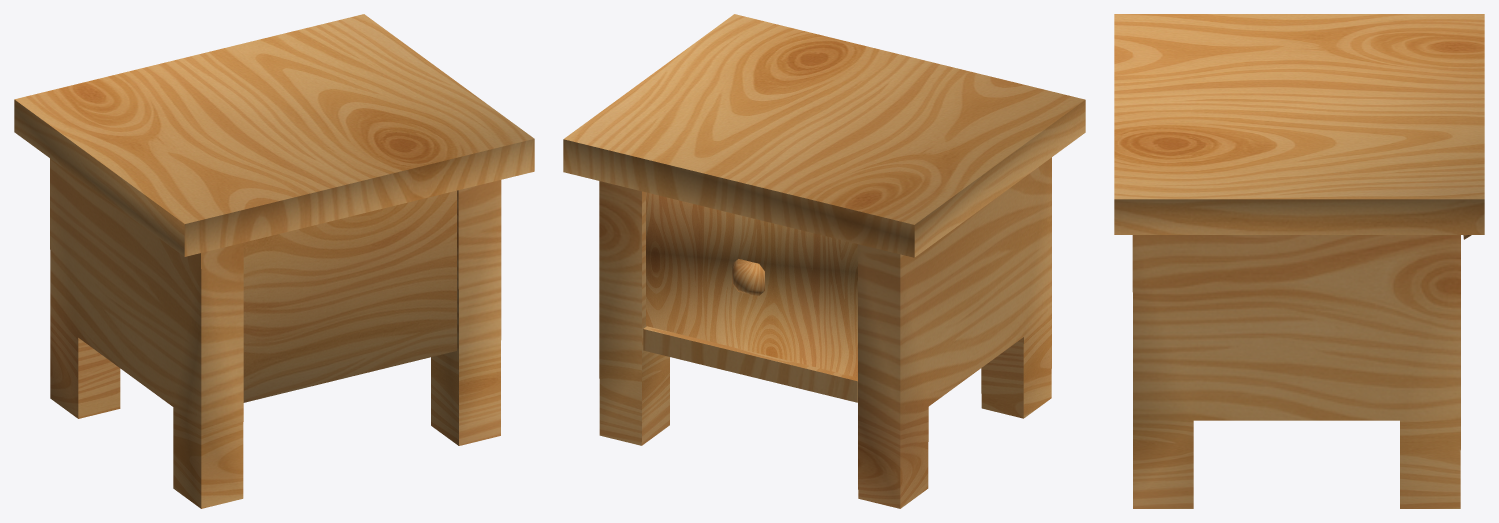
File: Bedroom_Bed_Stool_Drop.fbx
The picture shows the model from 3 angles, left to right: view 1: azimuth 30°, elevation 25°; view 2: azimuth 150°, elevation 25°; view 3: azimuth 270°, elevation 25°; orthographic projection. The views are drawn at different scales.
Visible parts, largest first — view 1: Bedroom_Bed_Stool_Drop.000, Bedroom_Bed_Stool_Drop.002, Bedroom_Bed_Stool_Drop.003, Bedroom_Bed_Stool_Drop.001; view 2: Bedroom_Bed_Stool_Drop.000, Bedroom_Bed_Stool_Drop.002, Bedroom_Bed_Stool_Drop.005, Bedroom_Bed_Stool_Drop.001, Bedroom_Bed_Stool_Drop.004; view 3: Bedroom_Bed_Stool_Drop.000, Bedroom_Bed_Stool_Drop.001.
Boxes of the visible parts, x1,y1,x2,y2 form: Bedroom_Bed_Stool_Drop.000: (14,14,534,256); Bedroom_Bed_Stool_Drop.002: (50,158,243,508); Bedroom_Bed_Stool_Drop.003: (243,190,456,402); Bedroom_Bed_Stool_Drop.001: (431,180,501,445); Bedroom_Bed_Stool_Drop.000: (563,14,1085,257); Bedroom_Bed_Stool_Drop.002: (857,157,1051,508); Bedroom_Bed_Stool_Drop.005: (646,192,857,377); Bedroom_Bed_Stool_Drop.001: (599,181,669,445); Bedroom_Bed_Stool_Drop.004: (643,326,857,402); Bedroom_Bed_Stool_Drop.000: (1114,14,1484,234); Bedroom_Bed_Stool_Drop.001: (1132,235,1460,508).
Size of the model in its own units: 51.72 by 41.99 by 43.65.
